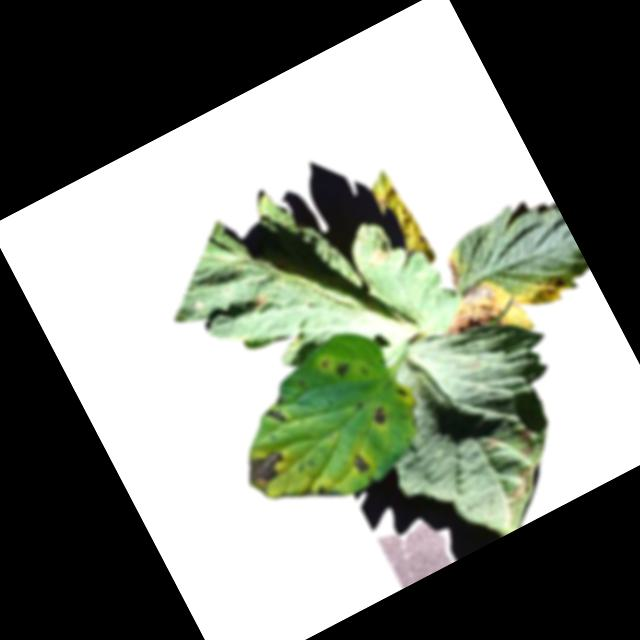Early_blight: (432, 276, 515, 351), (239, 444, 296, 499), (503, 464, 544, 504), (260, 394, 297, 433), (374, 180, 407, 214), (441, 253, 469, 290), (314, 477, 345, 508), (512, 427, 539, 458), (369, 243, 394, 269), (370, 403, 394, 428), (349, 452, 370, 475), (550, 273, 570, 293), (334, 360, 354, 380), (252, 292, 270, 311), (396, 385, 409, 401)
